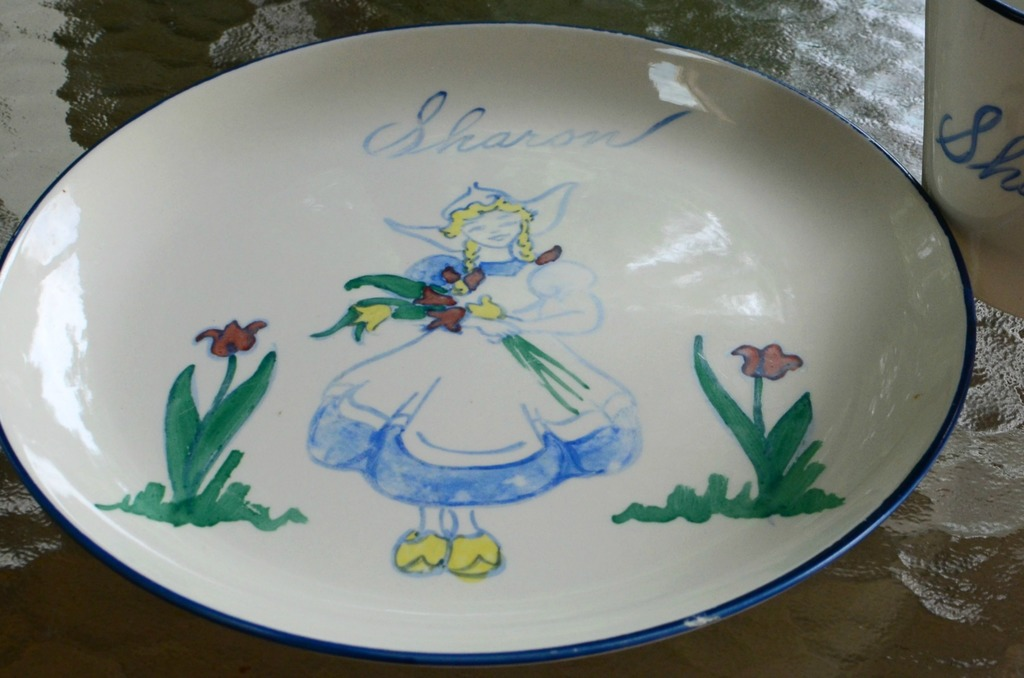plate: (0, 19, 975, 667)
